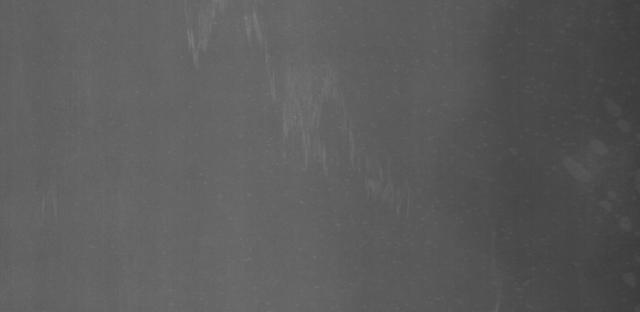oil_spot: (554, 144, 604, 193)
silk_spot: (175, 10, 383, 172)
